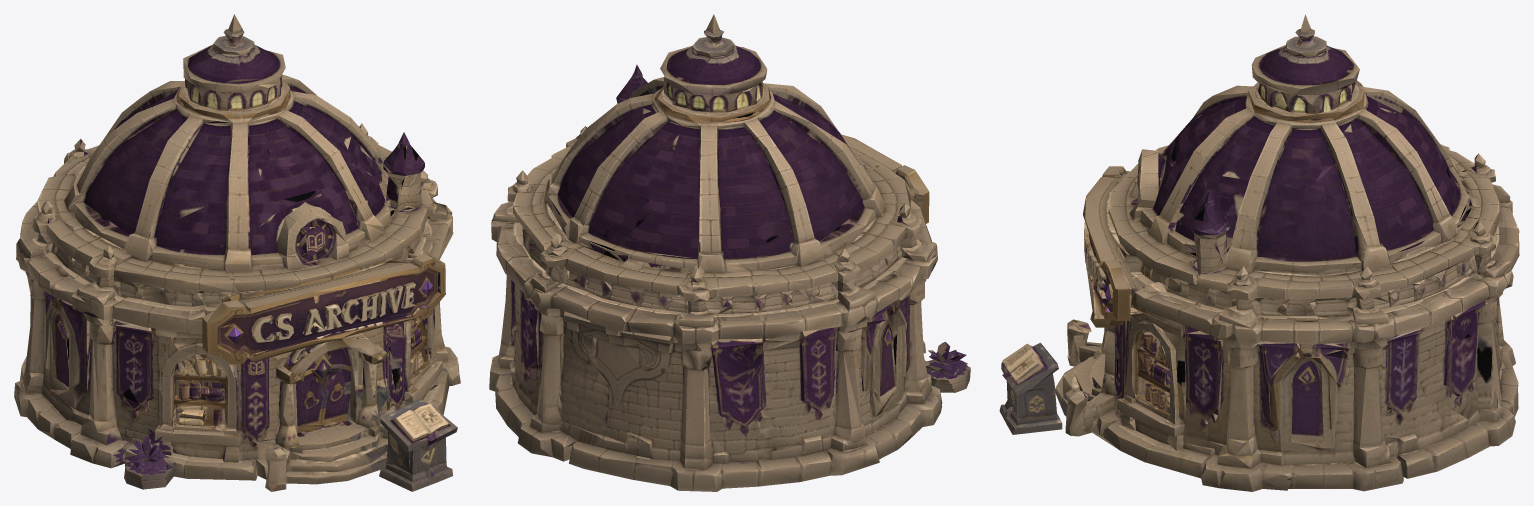
The model's file is study-cs.glb.
3 renders of one model, left to right at view 1: azimuth 30°, elevation 25°; view 2: azimuth 150°, elevation 25°; view 3: azimuth 270°, elevation 25°, orthographic. The views are drawn at different scales.
Parts seen in each view (by area): view 1: output_unwrapped; view 2: output_unwrapped; view 3: output_unwrapped.
Part boxes in pixels (<box>): output_unwrapped: <box>14,14,460,491</box>; output_unwrapped: <box>489,14,970,491</box>; output_unwrapped: <box>999,14,1519,491</box>.
Size of the model in its own units: 1.64 by 1.55 by 1.9.
Materials: 1 (1 with a texture image).
